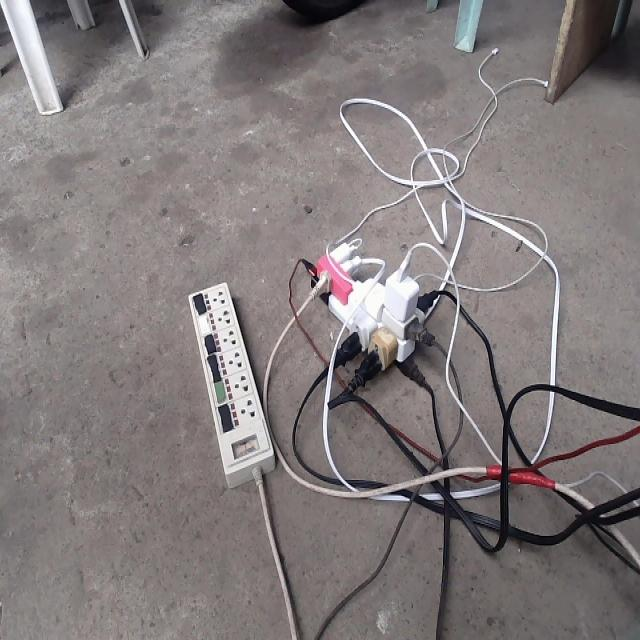-: (300, 233, 439, 387)
